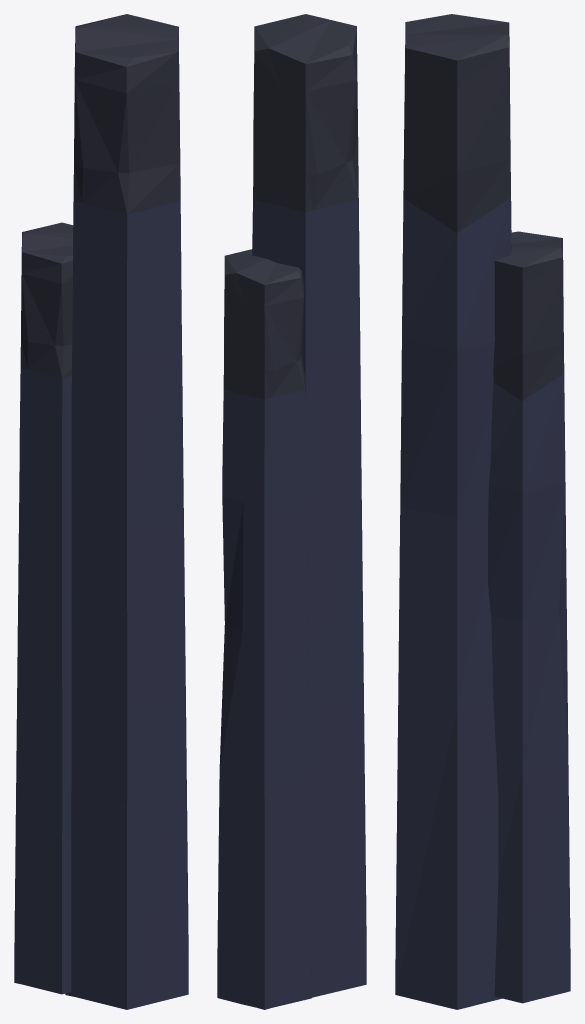
File: SaltPillars01.FBX
3 renders of one model, left to right at view 1: azimuth 90°, elevation 25°; view 2: azimuth 150°, elevation 25°; view 3: azimuth 270°, elevation 25°, orthographic.
Visible parts, largest first — view 1: Object011; view 2: Object011; view 3: Object011.
Boxes of the visible parts, left/top/right/bottom form: Object011: left=14, top=14, right=188, bottom=1009; Object011: left=217, top=14, right=366, bottom=1009; Object011: left=395, top=14, right=570, bottom=1009.
Size of the model in its own units: 98.88 by 121 by 725.
